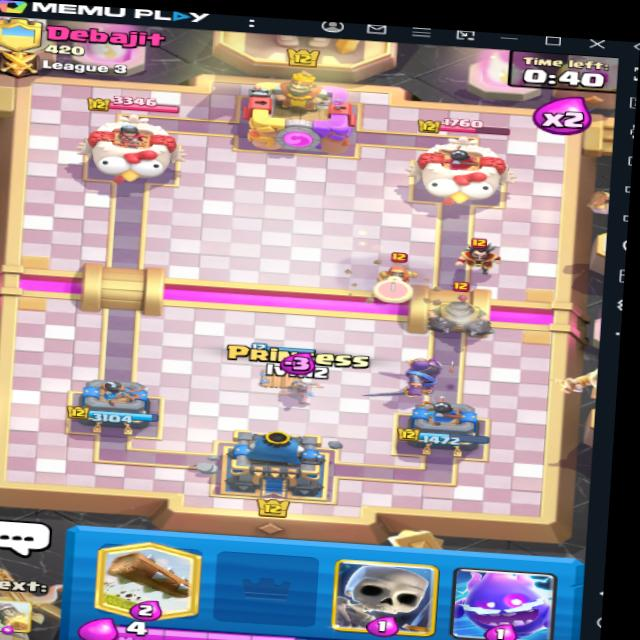electro-wizard: (443, 231, 523, 284)
mega-knight: (427, 277, 506, 347)
wizard: (365, 254, 435, 295)
